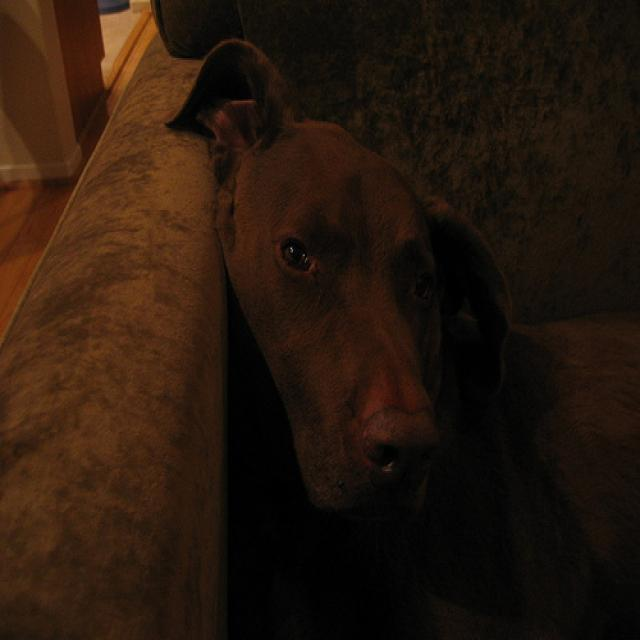Dog: (102, 4, 620, 624)
